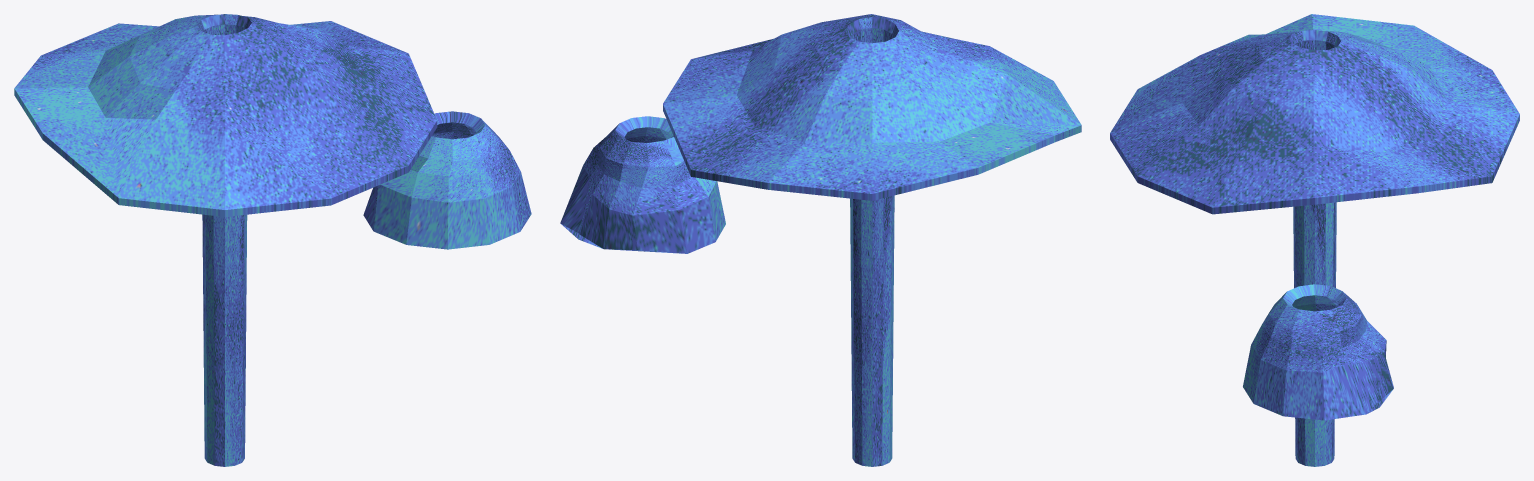
Rendered from hoyo de amianto.fbx.
The picture shows the model from 3 angles, left to right: view 1: azimuth 30°, elevation 25°; view 2: azimuth 150°, elevation 25°; view 3: azimuth 270°, elevation 25°; orthographic projection. The views are drawn at different scales.
Parts seen in each view (by area): view 1: Cylinder, Cylinder.001; view 2: Cylinder, Cylinder.001; view 3: Cylinder, Cylinder.001.
Part boxes in pixels (x1=…): Cylinder: x1=14, y1=14, x2=437, y2=466; Cylinder.001: x1=363, y1=111, x2=531, y2=249; Cylinder: x1=663, y1=14, x2=1081, y2=466; Cylinder.001: x1=560, y1=116, x2=725, y2=253; Cylinder: x1=1110, y1=14, x2=1519, y2=466; Cylinder.001: x1=1243, y1=284, x2=1393, y2=420.
Bounding box in the file's own units: 34528 × 29741 × 26244.
